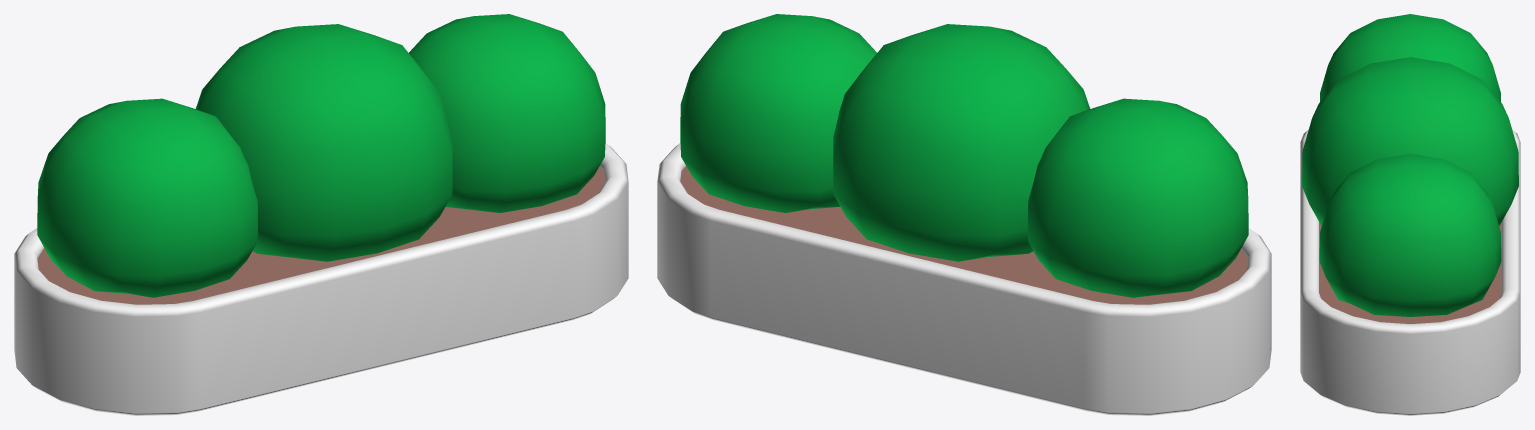
Rendered from Town_2_Plant_2.glb.
3 renders of one model, left to right at view 1: azimuth 30°, elevation 25°; view 2: azimuth 150°, elevation 25°; view 3: azimuth 270°, elevation 25°, orthographic. The views are drawn at different scales.
Parts seen in each view (by area): view 1: Town_2_Plant_2; view 2: Town_2_Plant_2; view 3: Town_2_Plant_2.
Boxes of the visible parts, x1,y1,x2,y2 form: Town_2_Plant_2: (14, 14, 628, 415); Town_2_Plant_2: (657, 14, 1271, 415); Town_2_Plant_2: (1300, 14, 1520, 415).
Bounding box in the file's own units: 2.83 × 1.31 × 1.13.
Materials: 1 (1 with a texture image).
